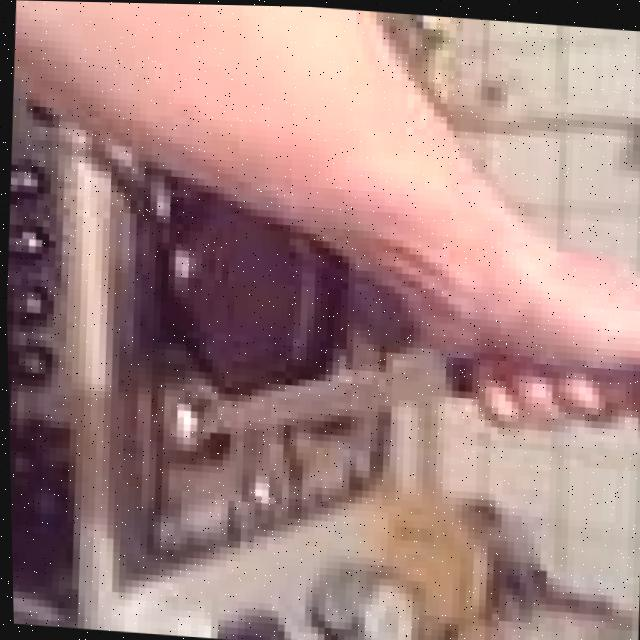knife: (189, 331, 478, 453)
